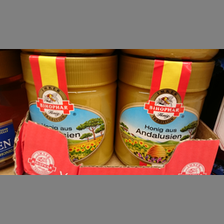honey: (19, 52, 117, 171), (120, 52, 214, 168)
